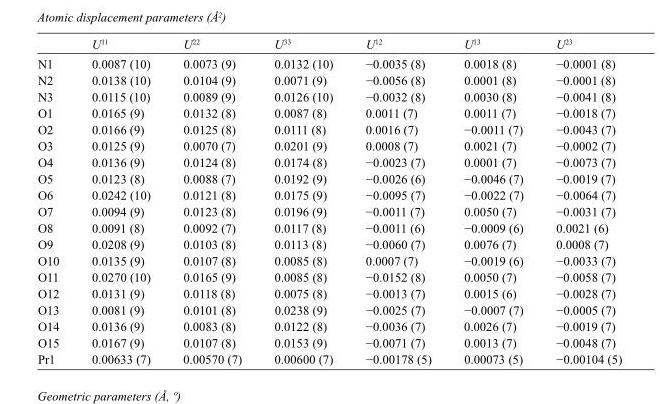table: (36, 37, 621, 365)
table column: (348, 37, 446, 365), (446, 37, 539, 365), (74, 37, 166, 365), (166, 37, 257, 365), (257, 37, 348, 365), (539, 37, 621, 365), (36, 37, 74, 365)
table column header: (36, 37, 621, 53)
table row: (36, 53, 621, 71), (36, 71, 621, 88), (36, 104, 621, 121), (36, 153, 621, 170), (36, 186, 621, 203), (36, 235, 621, 252), (36, 268, 621, 285), (36, 317, 621, 334), (36, 37, 621, 53), (36, 88, 621, 104), (36, 121, 621, 137), (36, 137, 621, 153), (36, 170, 621, 186), (36, 203, 621, 219), (36, 219, 621, 235), (36, 252, 621, 268), (36, 285, 621, 301), (36, 301, 621, 317), (36, 334, 621, 350), (36, 350, 621, 365)
